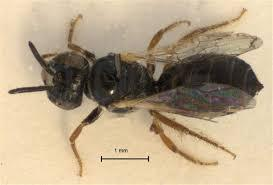Braunsapis: (11, 3, 267, 178)
